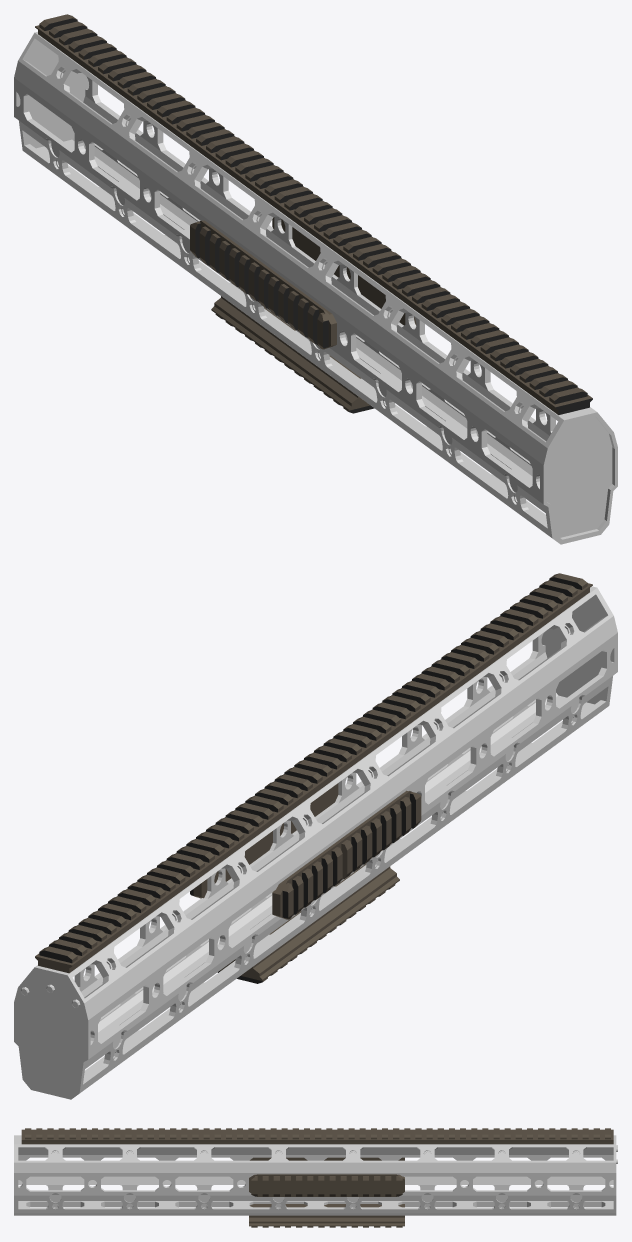
File: SM_LPAMG_MR22_Forestock_Extended.fbx
3 renders of one model, top to bottom at view 1: azimuth 30°, elevation 25°; view 2: azimuth 150°, elevation 25°; view 3: azimuth 270°, elevation 25°, orthographic. The views are drawn at different scales.
Parts seen in each view (by area): view 1: SM_MR22_Forestock_Extended; view 2: SM_MR22_Forestock_Extended; view 3: SM_MR22_Forestock_Extended.
Boxes of the visible parts, bbox=[...] form: SM_MR22_Forestock_Extended: bbox=[14, 14, 617, 544]; SM_MR22_Forestock_Extended: bbox=[14, 573, 617, 1099]; SM_MR22_Forestock_Extended: bbox=[14, 1128, 617, 1227].
Bounding box in the file's own units: 5.26 × 8.2 × 49.2.
